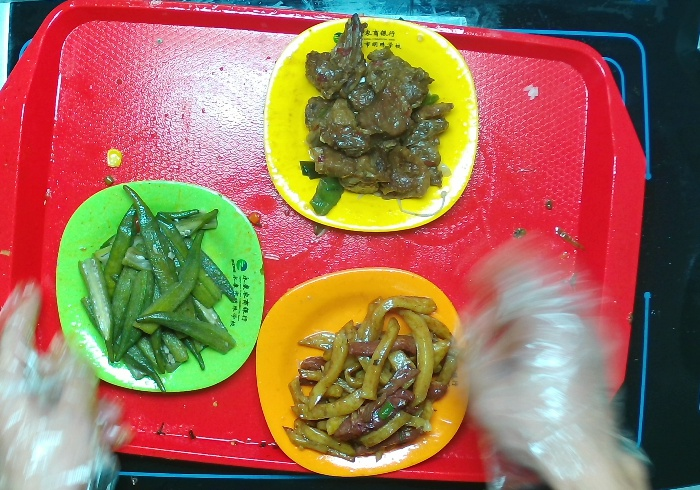YKMZ-Huang_Se_Fang_Die: (258, 18, 482, 235)
YKMZ-Ju_Se_Fang_Die: (254, 266, 475, 481)
YKMZ-Lv_Se_Fang_Die: (56, 182, 266, 391)
